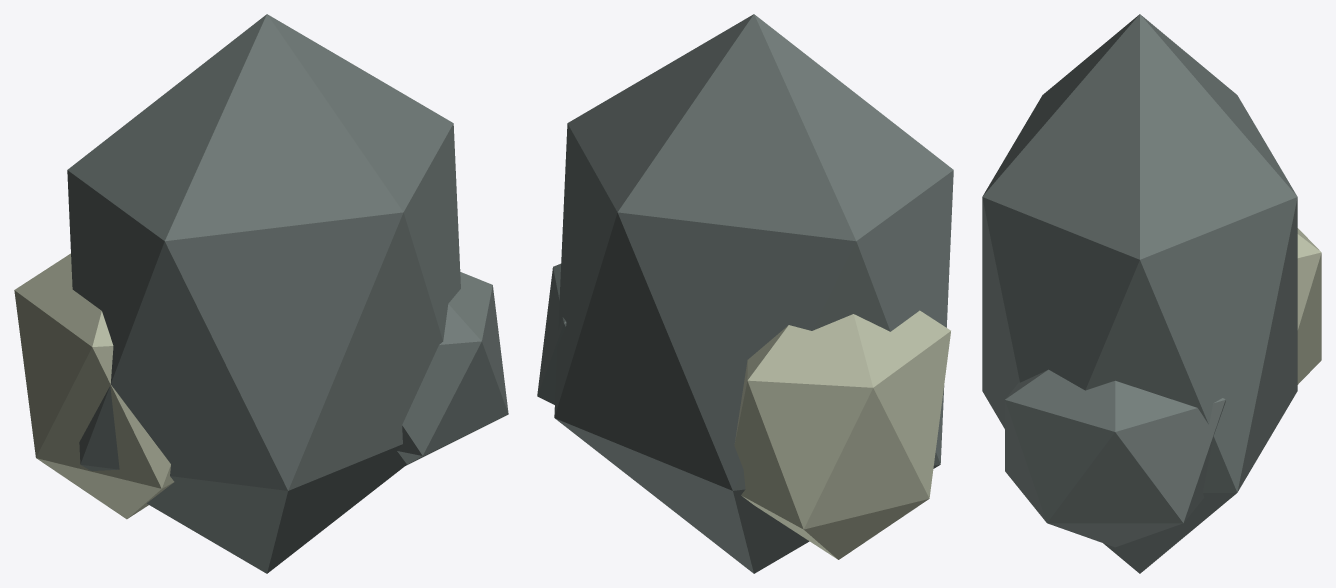
File: rock.glb
3 views of the same model, side by side, from view 1: azimuth 30°, elevation 25°; view 2: azimuth 150°, elevation 25°; view 3: azimuth 270°, elevation 25° (orthographic).
Visible parts, largest first — view 1: rock; view 2: rock; view 3: rock.
Boxes of the visible parts, x1,y1,x2,y2 form: rock: (14,14,508,573); rock: (537,14,953,573); rock: (982,14,1321,573).
Size of the model in its own units: 0.7788 by 1 by 0.5493.
